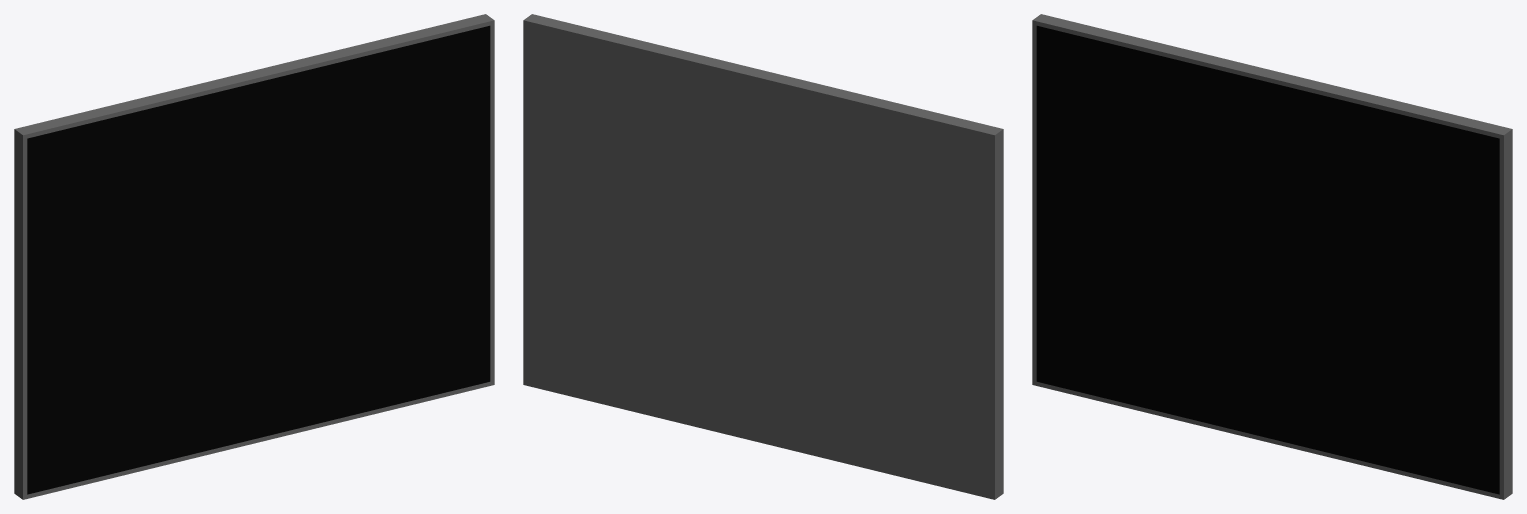
The model's file is Television.fbx.
The picture shows the model from 3 angles, left to right: view 1: azimuth 30°, elevation 25°; view 2: azimuth 150°, elevation 25°; view 3: azimuth 330°, elevation 25°; orthographic projection.
Parts seen in each view (by area): view 1: Television; view 2: Television; view 3: Television.
Part boxes in pixels (box(x1,y1,x2,y2)): Television: box(14, 14, 494, 499); Television: box(523, 14, 1003, 499); Television: box(1032, 14, 1512, 499).
Bounding box in the file's own units: 230 × 170 × 7.29.
